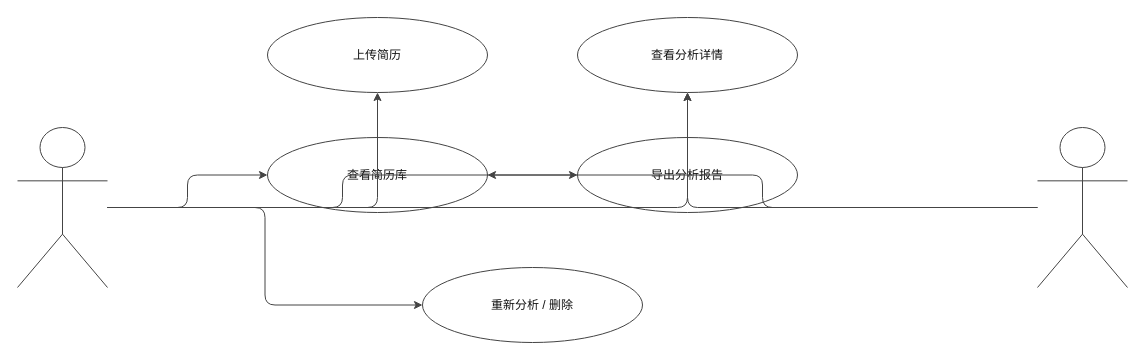
The diagram is 1145 pixels wide and 360 high, and some of its shapes have lost their labels. Here are the shapes that lost their labels. From the top down, the centre of each, then its label:
pixel 62 207: 求职者
pixel 1082 207: 系统
